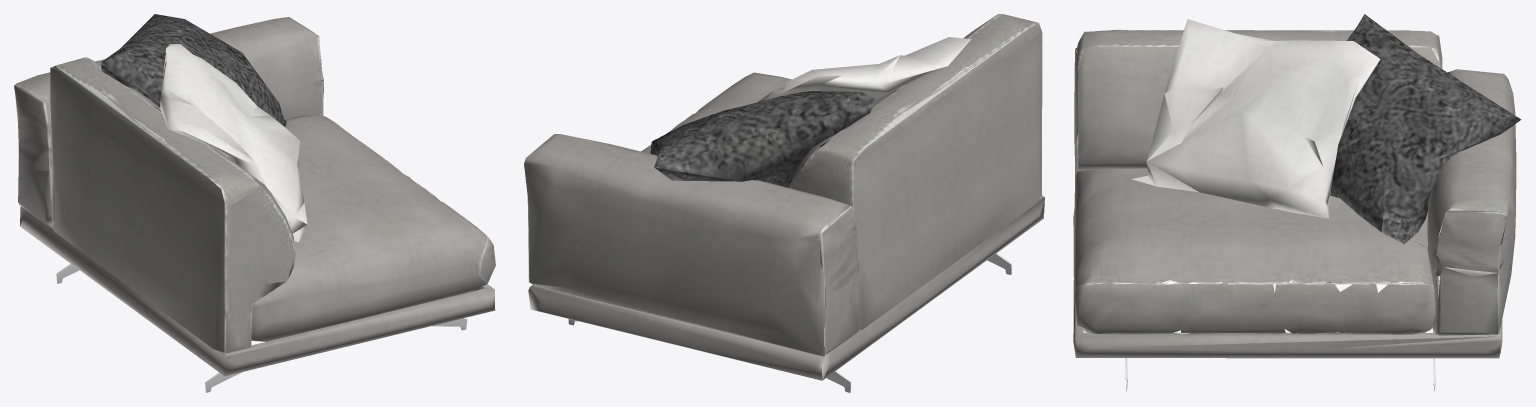
File: M_Sofa0021.obj
3 views of the same model, side by side, from view 1: azimuth 30°, elevation 25°; view 2: azimuth 150°, elevation 25°; view 3: azimuth 270°, elevation 25° (orthographic). The views are drawn at different scales.
Size of the model in its own units: 0.864 by 0.71 by 1.13.
1 material, 1 textured.
